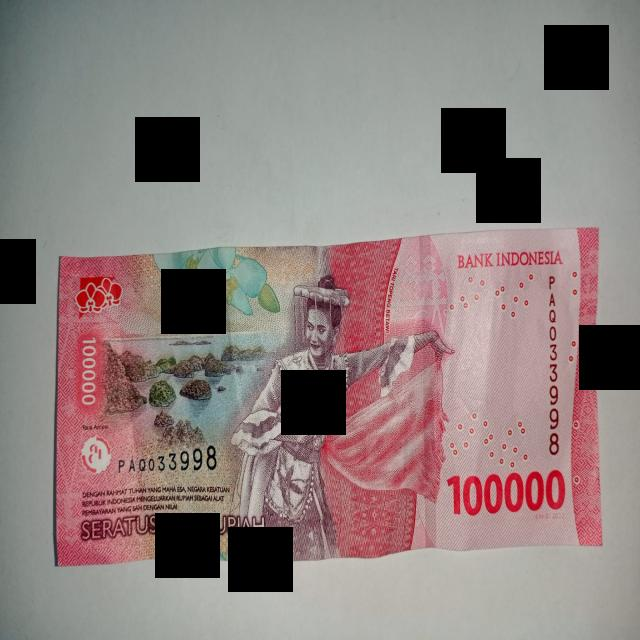seratusribu rupiah: (55, 228, 602, 565)
